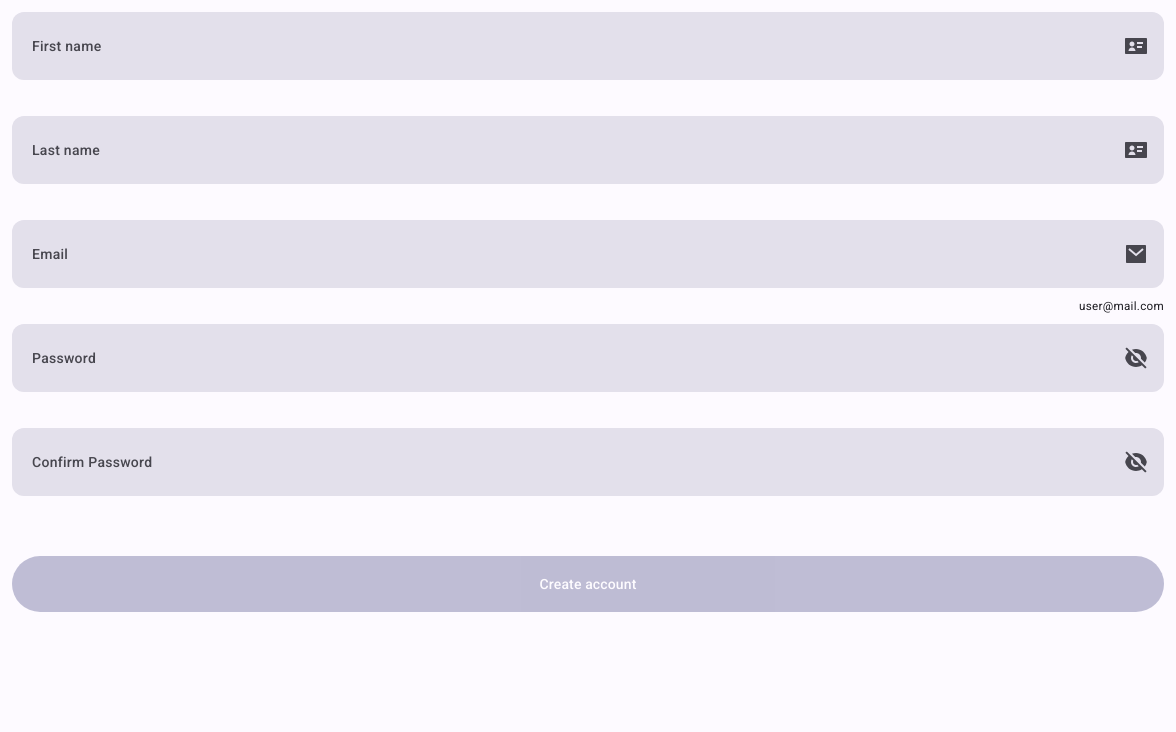
Test: RegisterForm Component › shows error when passwords do not match
This screenshot has width=1176, height=732.
In the password field labelled "Password": (588, 358) [12,324,1164,392], type "password123"
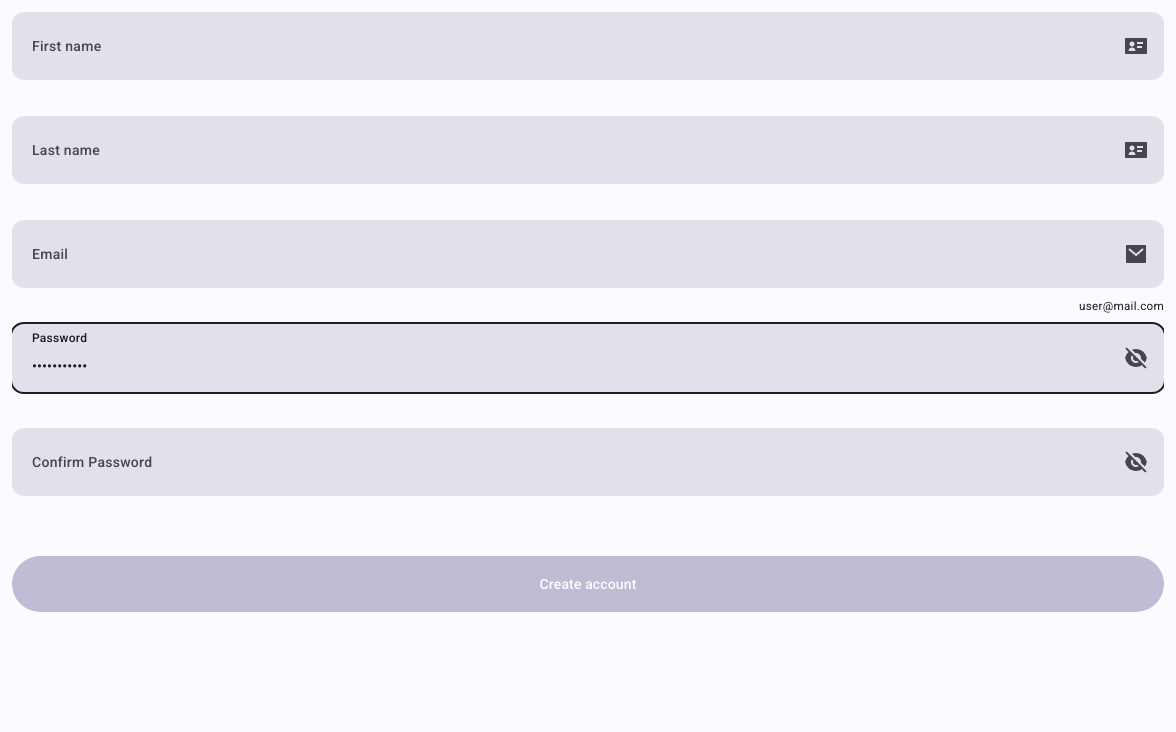
In the password field labelled "Confirm Password": (588, 462) [12,428,1164,496], type "password666"
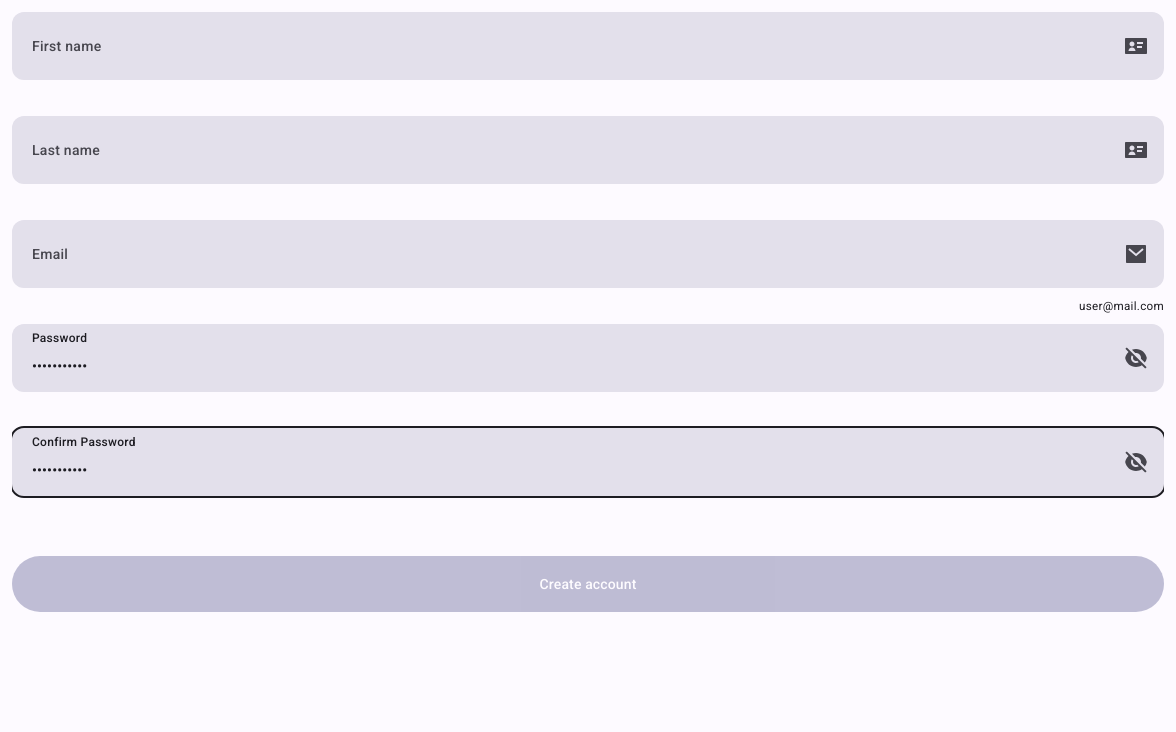
Press Tab
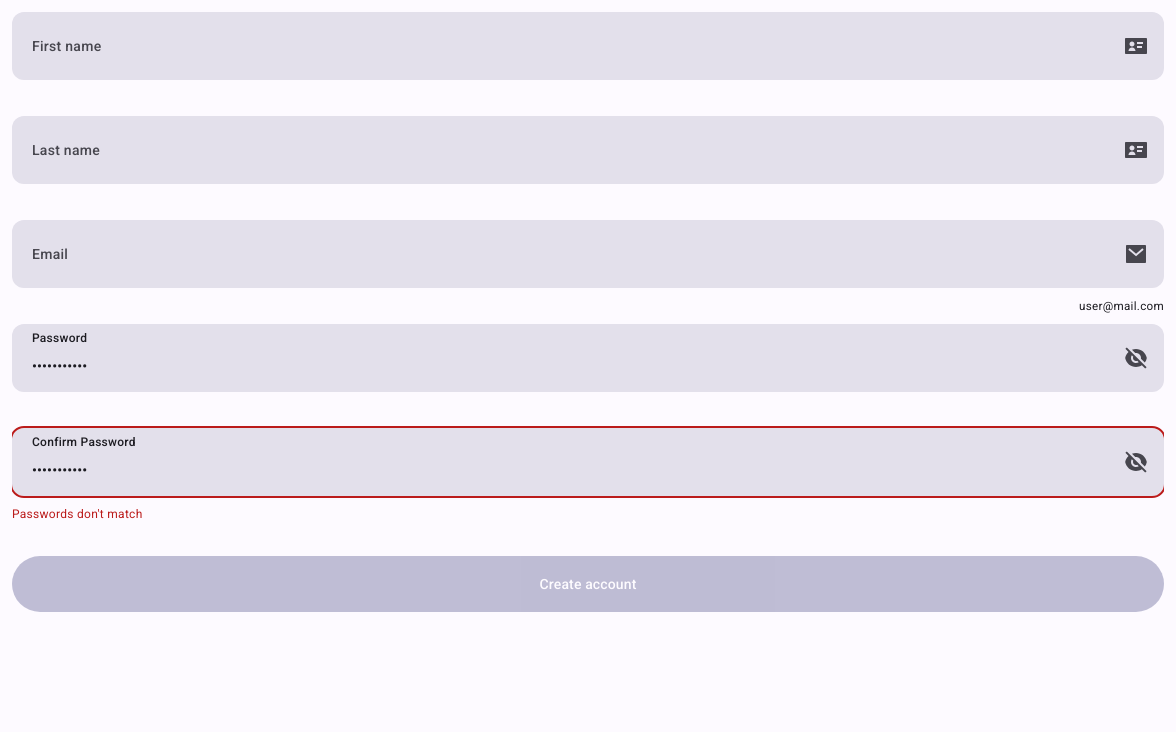
Now the text "Passwords don't match" is shown, box [12,504,143,524]
